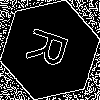R: (25, 25, 78, 74)
